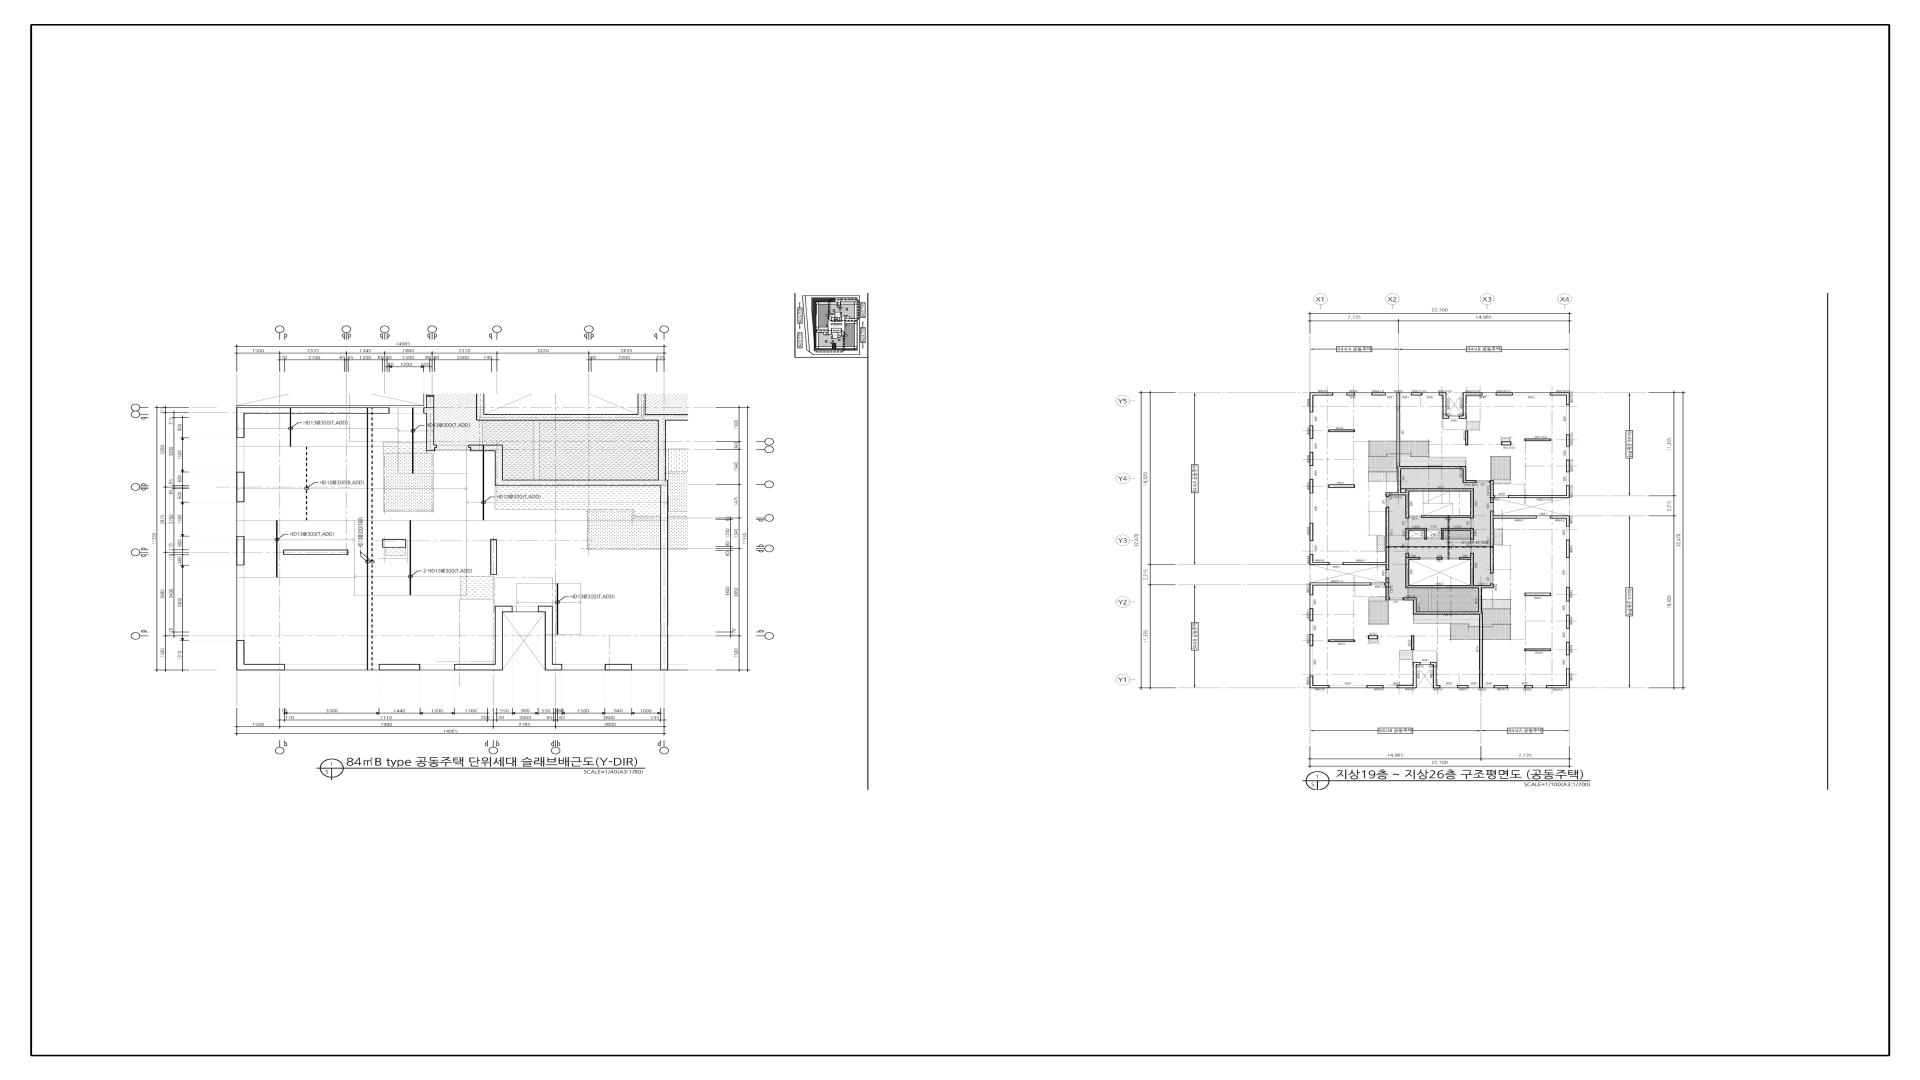wall: (468, 444, 667, 487), (476, 394, 688, 421), (538, 605, 562, 670), (661, 487, 669, 670), (1403, 597, 1484, 615), (495, 605, 513, 665), (236, 407, 389, 414), (1509, 485, 1569, 498), (1309, 583, 1371, 595), (1396, 662, 1420, 688), (1458, 393, 1482, 419), (426, 396, 436, 451), (658, 421, 666, 480), (1309, 393, 1333, 413), (1547, 669, 1569, 688), (1441, 527, 1474, 539), (284, 550, 348, 555), (1410, 584, 1494, 588), (1480, 615, 1484, 688), (1396, 393, 1400, 465), (1439, 393, 1449, 419), (1396, 465, 1466, 469), (1406, 488, 1474, 492), (244, 663, 285, 670), (1309, 675, 1329, 688), (455, 665, 502, 670), (1406, 527, 1427, 539), (1549, 393, 1571, 405), (1386, 506, 1390, 570), (1490, 510, 1494, 574), (1431, 662, 1440, 688), (236, 472, 244, 502), (236, 640, 244, 670), (491, 539, 497, 575), (1309, 554, 1329, 566), (236, 537, 244, 566), (378, 665, 421, 670), (1549, 516, 1571, 526), (1462, 469, 1477, 483), (236, 414, 244, 438), (382, 539, 406, 547), (1342, 562, 1386, 566), (1406, 553, 1410, 588), (605, 665, 632, 670), (1470, 553, 1474, 585), (1422, 516, 1470, 518), (1386, 492, 1410, 497), (1489, 480, 1495, 498), (1385, 578, 1390, 600), (1494, 516, 1536, 518), (1470, 492, 1474, 518), (1524, 592, 1551, 596), (1328, 484, 1354, 488), (1478, 588, 1482, 612), (1406, 496, 1410, 518), (1398, 469, 1402, 492), (1328, 430, 1356, 433), (1524, 649, 1551, 651), (1328, 640, 1354, 642), (1524, 439, 1551, 442), (1309, 524, 1313, 541), (1411, 636, 1415, 650), (1309, 479, 1313, 493), (1309, 426, 1313, 439), (1309, 452, 1313, 465), (1309, 608, 1313, 621), (1567, 539, 1569, 558), (1309, 634, 1313, 646), (1366, 686, 1383, 688), (1495, 393, 1513, 396), (1367, 636, 1378, 640), (1494, 686, 1509, 688), (1567, 615, 1569, 629), (1567, 587, 1569, 601), (1465, 431, 1468, 446), (1371, 393, 1386, 396), (1502, 442, 1511, 446), (1567, 642, 1569, 655), (1567, 434, 1569, 447), (1458, 556, 1470, 559), (1457, 686, 1469, 688), (1567, 460, 1569, 472), (1411, 393, 1423, 396), (1410, 556, 1420, 559), (1524, 686, 1534, 688), (1346, 393, 1354, 396), (1436, 556, 1443, 559), (1490, 498, 1494, 502)
